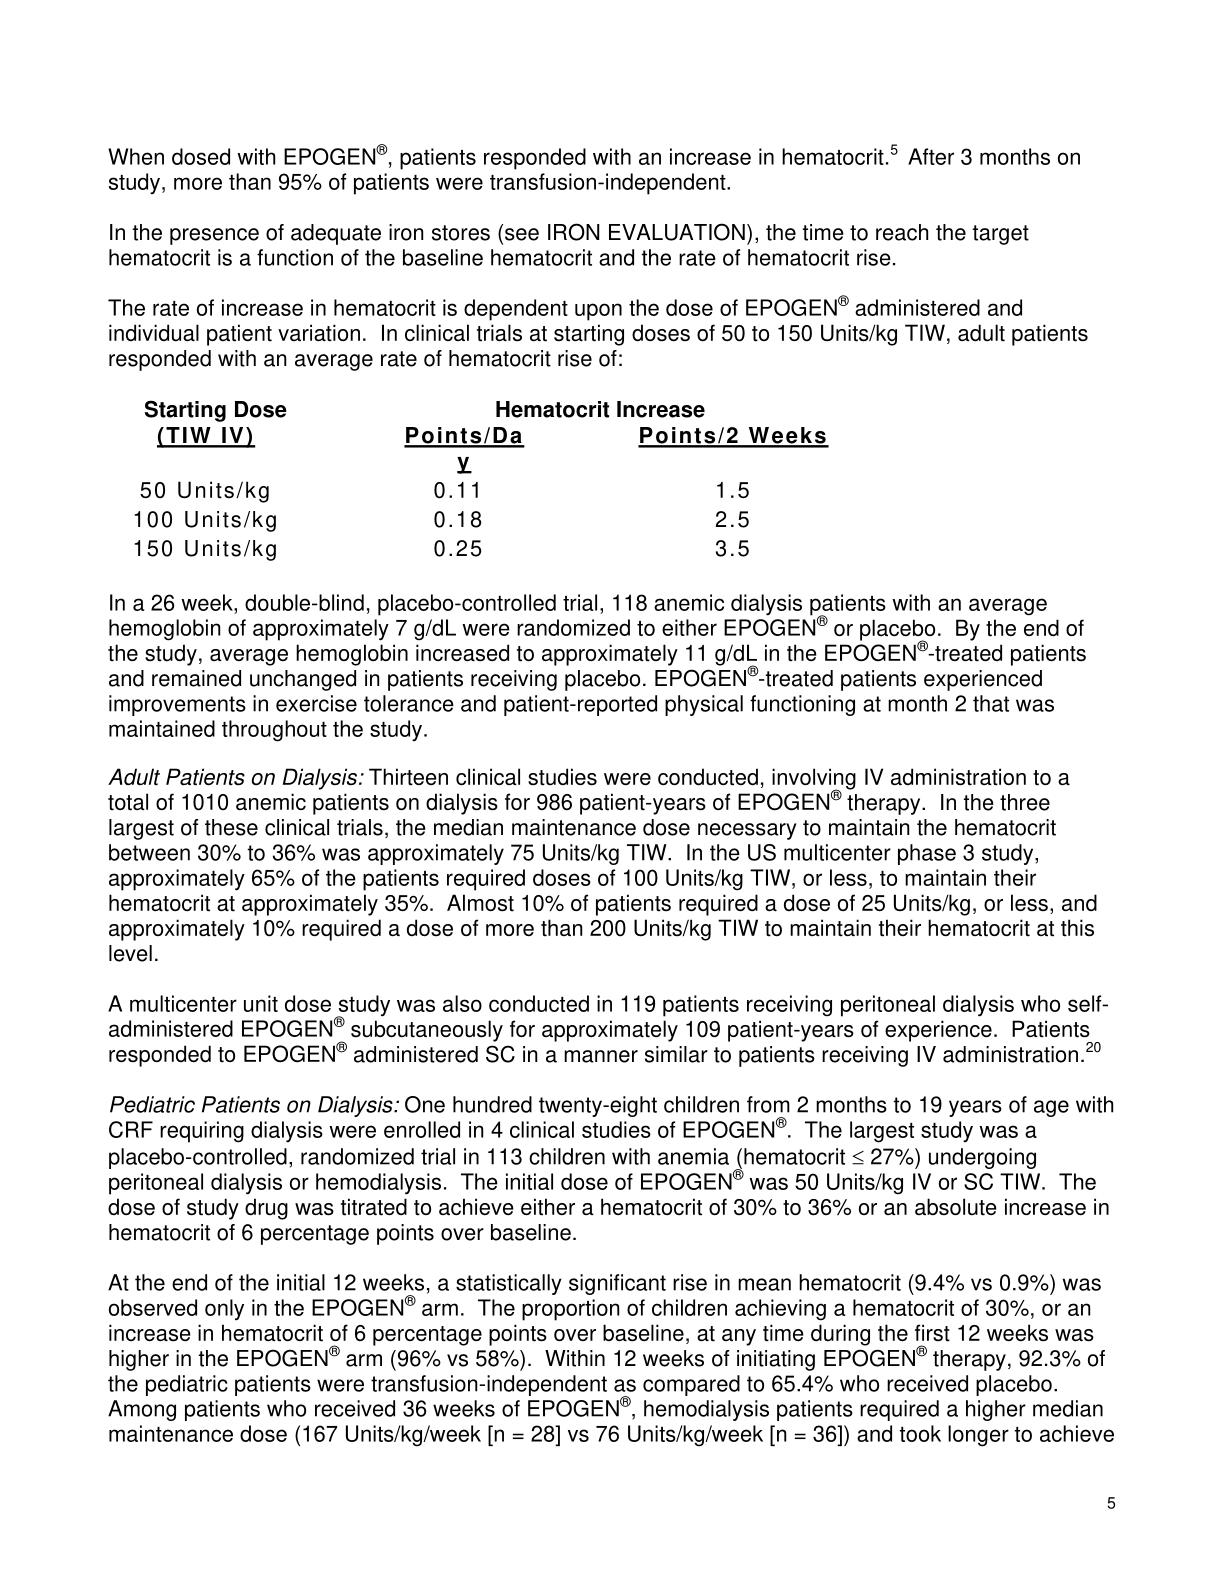nolines: (132, 400, 829, 557)
